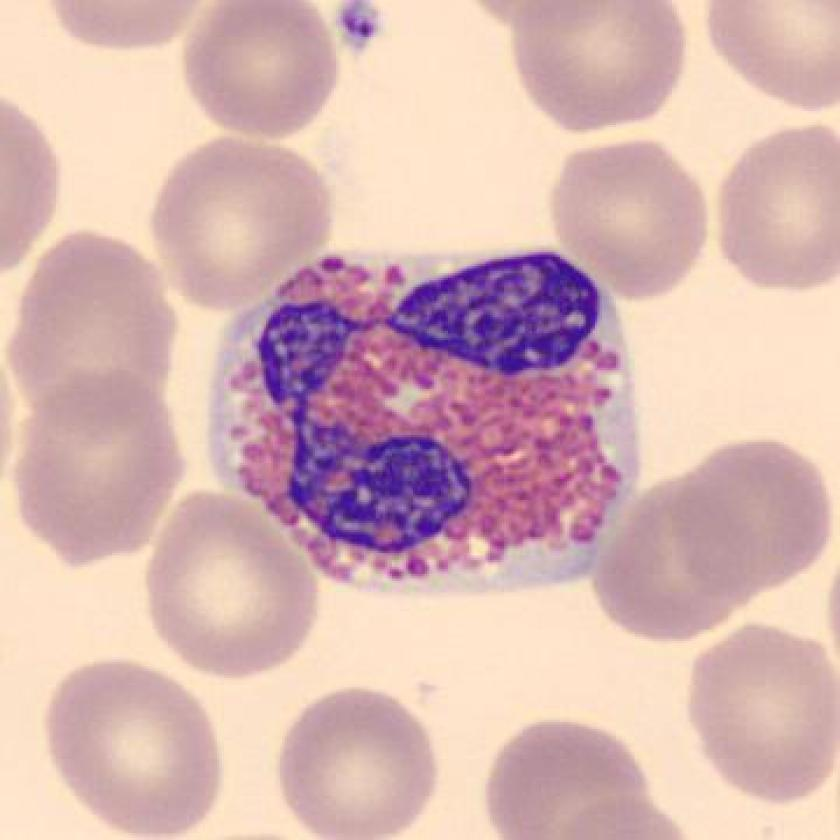eosinophil: (200, 233, 655, 603)
